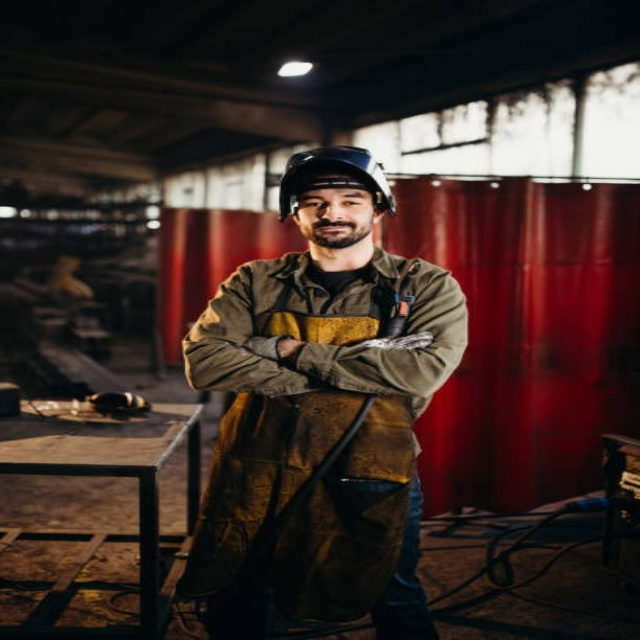Guantes: (345, 327, 439, 351)
Sin_gafas: (296, 191, 370, 214)
Sin_mascara: (307, 219, 359, 239)
